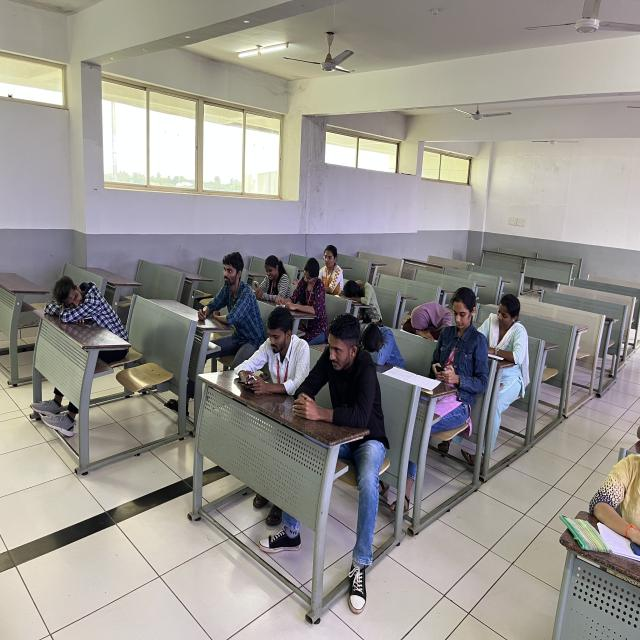Reading: (283, 254, 329, 328)
Sleeping: (34, 268, 136, 387), (352, 316, 414, 383), (398, 294, 458, 354), (337, 274, 388, 329)
Using Phone: (232, 304, 317, 408), (426, 279, 483, 420), (252, 252, 292, 311)
Writing: (197, 244, 256, 348), (476, 290, 533, 393)
